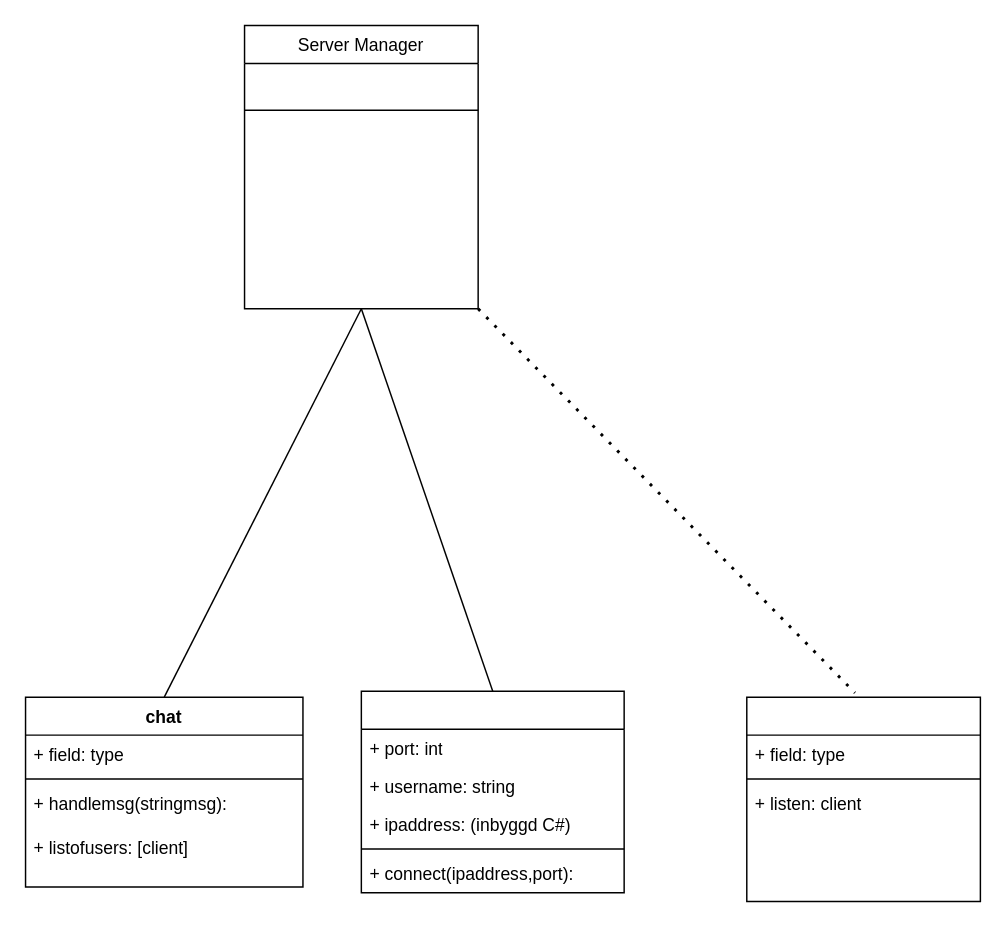
Image size: 1006x931. Some labels were removed from this diagram. The shapes that lost their labels are listed below. From the top down, each one's box as (x1, y1, x2, y2) in pixels, then its label:
(360, 690, 624, 893): Client
(745, 696, 980, 902): listener
